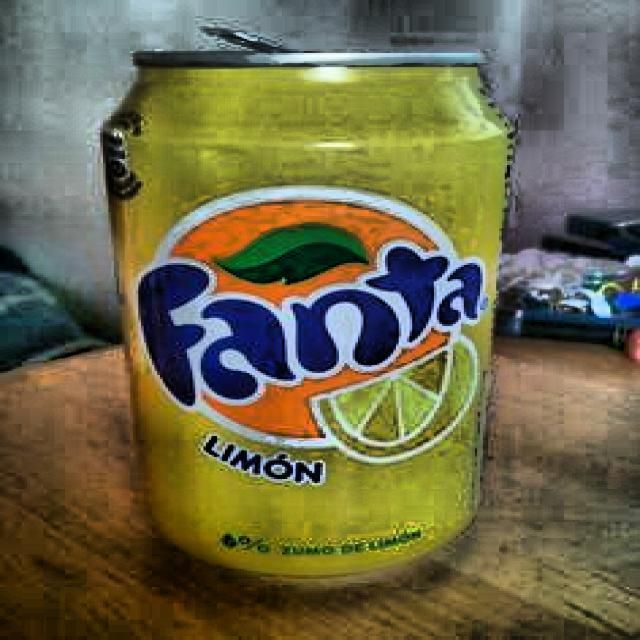Cans: (77, 0, 512, 611)
